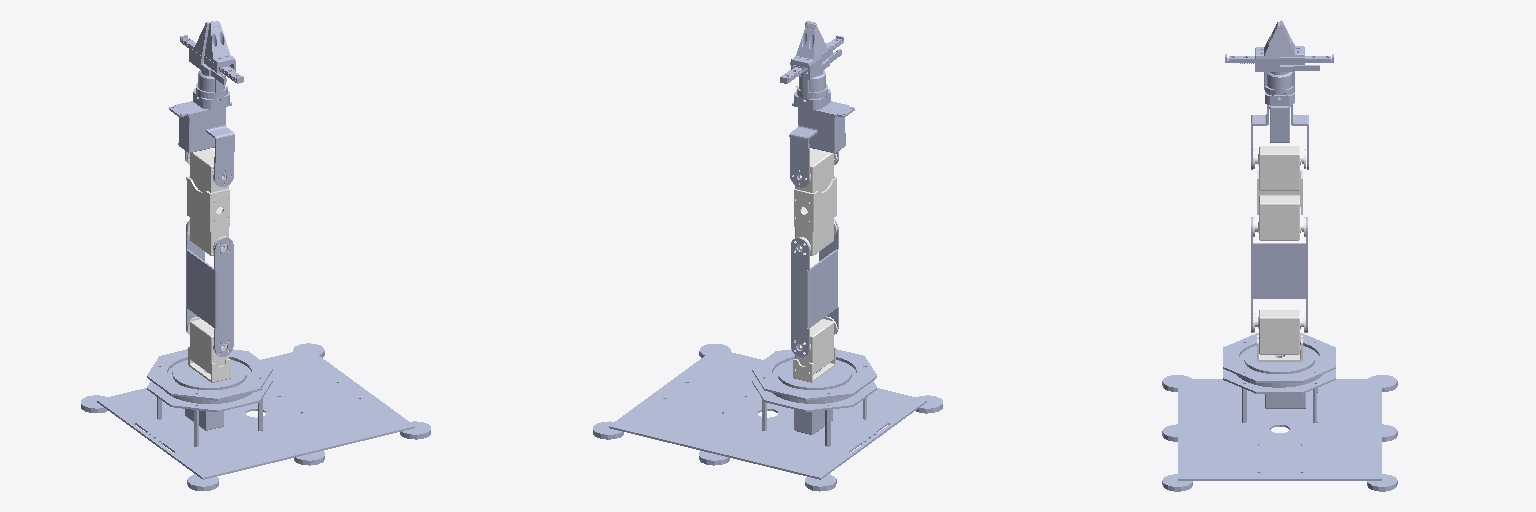
The robot description file, URDF, robot "zlarm_description":
<?xml version="1.0" ?>
<!-- This URDF was automatically created by SolidWorks to URDF Exporter! Originally created by Stephen Brawner (brawner@gmail.com) 
     Commit Version: 1.6.0-4-g7f85cfe  Build Version: 1.6.7995.38578
     For more information, please see http://wiki.ros.org/sw_urdf_exporter -->
<robot
  name="zlarm_description">

  <link
    name="base_link">
    <inertial>
      <origin
        xyz="0.0221709604094146 0.00102061948183807 0.0209906897114635"
        rpy="0 0 0" />
      <mass
        value="0.25175937001406" />
      <inertia
        ixx="0.000596688851983624"
        ixy="-5.88114431217455E-08"
        ixz="-2.45101826496541E-07"
        iyy="0.000662550232630304"
        iyz="-1.25369047340847E-07"
        izz="0.00124145605836551" />
    </inertial>
    <visual>
      <origin
        xyz="0 0 0"
        rpy="0 0 0" />
      <geometry>
        <mesh
          filename="package://zlarm_description/meshes/base_link.STL" />
      </geometry>
      <material
        name="">
        <color
          rgba="0.792156862745098 0.819607843137255 0.933333333333333 1" />
      </material>
    </visual>
    <collision>
      <origin
        xyz="0 0 0"
        rpy="0 0 0" />
      <geometry>
        <mesh
          filename="package://zlarm_description/meshes/base_link.STL" />
      </geometry>
    </collision>
  </link>
  <link
    name="link1">
    <inertial>
      <origin
        xyz="3.73431542359526E-06 1.57764626503853E-05 0.0276157877783038"
        rpy="0 0 0" />
      <mass
        value="0.0456406639502157" />
      <inertia
        ixx="1.21000561885726E-05"
        ixy="-2.10785214842448E-12"
        ixz="1.43366338603729E-09"
        iyy="7.10552788256176E-06"
        iyz="5.32187487279842E-09"
        izz="7.9921342261645E-06" />
    </inertial>
    <visual>
      <origin
        xyz="0 0 0"
        rpy="0 0 0" />
      <geometry>
        <mesh
          filename="package://zlarm_description/meshes/link1.STL" />
      </geometry>
      <material
        name="">
        <color
          rgba="1 1 1 1" />
      </material>
    </visual>
    <collision>
      <origin
        xyz="0 0 0"
        rpy="0 0 0" />
      <geometry>
        <mesh
          filename="package://zlarm_description/meshes/link1.STL" />
      </geometry>
    </collision>
  </link>
  <joint
    name="joint1"
    type="revolute">
    <origin
      xyz="-2.0792E-05 0 0.0525"
      rpy="0 0 0" />
    <parent
      link="base_link" />
    <child
      link="link1" />
    <axis
      xyz="0 0 1" />
    <limit
      lower="-1.5708"
      upper="1.5708"
      effort="0"
      velocity="0" />
  </joint>
  <link
    name="link2">
    <inertial>
      <origin
        xyz="-0.0515 -0.00367569989994914 -1.11022302462516E-16"
        rpy="0 0 0" />
      <mass
        value="0.0150013816640669" />
      <inertia
        ixx="8.38686831853106E-06"
        ixy="8.24505348156317E-21"
        ixz="9.96420251562661E-20"
        iyy="1.91552678825878E-05"
        iyz="-4.01740606605407E-20"
        izz="1.19562192175291E-05" />
    </inertial>
    <visual>
      <origin
        xyz="0 0 0"
        rpy="0 0 0" />
      <geometry>
        <mesh
          filename="package://zlarm_description/meshes/link2.STL" />
      </geometry>
      <material
        name="">
        <color
          rgba="0.792156862745098 0.819607843137255 0.933333333333333 1" />
      </material>
    </visual>
    <collision>
      <origin
        xyz="0 0 0"
        rpy="0 0 0" />
      <geometry>
        <mesh
          filename="package://zlarm_description/meshes/link2.STL" />
      </geometry>
    </collision>
  </link>
  <joint
    name="joint2"
    type="revolute">
    <origin
      xyz="0 0 0.03865"
      rpy="1.5708 1.5704 0" />
    <parent
      link="link1" />
    <child
      link="link2" />
    <axis
      xyz="0 0 -1" />
    <limit
      lower="-1.5708"
      upper="1.5708"
      effort="0"
      velocity="0" />
  </joint>
  <link
    name="link3">
    <inertial>
      <origin
        xyz="-0.0366499770037697 -0.000397974566436636 -0.000285684851574208"
        rpy="0 0 0" />
      <mass
        value="0.0914301217869069" />
      <inertia
        ixx="1.61895735535747E-05"
        ixy="7.79689527819437E-22"
        ixz="7.41994732296582E-21"
        iyy="2.48565411044368E-05"
        iyz="-9.02388346632778E-11"
        izz="1.48080036394588E-05" />
    </inertial>
    <visual>
      <origin
        xyz="0 0 0"
        rpy="0 0 0" />
      <geometry>
        <mesh
          filename="package://zlarm_description/meshes/link3.STL" />
      </geometry>
      <material
        name="">
        <color
          rgba="1 1 1 1" />
      </material>
    </visual>
    <collision>
      <origin
        xyz="0 0 0"
        rpy="0 0 0" />
      <geometry>
        <mesh
          filename="package://zlarm_description/meshes/link3.STL" />
      </geometry>
    </collision>
  </link>
  <joint
    name="joint3"
    type="revolute">
    <origin
      xyz="-0.103 0 0"
      rpy="0 0 0" />
    <parent
      link="link2" />
    <child
      link="link3" />
    <axis
      xyz="0 0 -1" />
    <limit
      lower="-1.5708"
      upper="1.5708"
      effort="0"
      velocity="0" />
  </joint>
  <link
    name="link4">
    <inertial>
      <origin
        xyz="-0.0426707479899427 -0.00709612816109308 -0.000134058484138277"
        rpy="0 0 0" />
      <mass
        value="0.0516933055416123" />
      <inertia
        ixx="1.21084331107011E-05"
        ixy="-8.30263119962514E-07"
        ixz="9.6017480874702E-10"
        iyy="1.5761311041807E-05"
        iyz="-7.89587080993816E-10"
        izz="1.7190142915555E-05" />
    </inertial>
    <visual>
      <origin
        xyz="0 0 0"
        rpy="0 0 0" />
      <geometry>
        <mesh
          filename="package://zlarm_description/meshes/link4.STL" />
      </geometry>
      <material
        name="">
        <color
          rgba="0.792156862745098 0.819607843137255 0.933333333333333 1" />
      </material>
    </visual>
    <collision>
      <origin
        xyz="0 0 0"
        rpy="0 0 0" />
      <geometry>
        <mesh
          filename="package://zlarm_description/meshes/link4.STL" />
      </geometry>
    </collision>
  </link>
  <joint
    name="joint4"
    type="revolute">
    <origin
      xyz="-0.0732999540075392 0 0"
      rpy="0 0 0" />
    <parent
      link="link3" />
    <child
      link="link4" />
    <axis
      xyz="0 0 -1" />
    <limit
      lower="-1.5708"
      upper="1.5708"
      effort="0"
      velocity="0" />
  </joint>
  <link
    name="link5">
    <inertial>
      <origin
        xyz="1.20314494200802E-08 1.49244971936469E-08 -0.000575227732471761"
        rpy="0 0 0" />
      <mass
        value="0.000646644487863901" />
      <inertia
        ixx="1.55888144531973E-08"
        ixy="7.76125316985978E-18"
        ixz="-2.99138207885228E-13"
        iyy="1.5588814456568E-08"
        iyz="-3.71068181914057E-13"
        izz="2.98907164206809E-08" />
    </inertial>
    <visual>
      <origin
        xyz="0 0 0"
        rpy="0 0 0" />
      <geometry>
        <mesh
          filename="package://zlarm_description/meshes/link5.STL" />
      </geometry>
      <material
        name="">
        <color
          rgba="1 1 1 1" />
      </material>
    </visual>
    <collision>
      <origin
        xyz="0 0 0"
        rpy="0 0 0" />
      <geometry>
        <mesh
          filename="package://zlarm_description/meshes/link5.STL" />
      </geometry>
    </collision>
  </link>
  <joint
    name="joint5"
    type="revolute">
    <origin
      xyz="-0.0682243933179387 0.0023018729714997 -0.000134875345940033"
      rpy="-1.57082231078953 0.00184650979107542 1.5567252968918" />
    <parent
      link="link4" />
    <child
      link="link5" />
    <axis
      xyz="0 0 1" />
    <limit
      lower="-1.5708"
      upper="1.5708"
      effort="0"
      velocity="0" />
  </joint>
  <link
    name="gripper_base_link">
    <inertial>
      <origin
        xyz="-0.0616934486513835 0.000985771191585209 1.54427206379149E-05"
        rpy="0 0 0" />
      <mass
        value="0.0218218515622906" />
      <inertia
        ixx="4.89294487346846E-06"
        ixy="2.04476389850048E-08"
        ixz="5.31851726888672E-09"
        iyy="5.05197711598414E-06"
        iyz="3.26752375952789E-10"
        izz="2.18440311673384E-06" />
    </inertial>
    <visual>
      <origin
        xyz="0 0 0"
        rpy="0 0 0" />
      <geometry>
        <mesh
          filename="package://zlarm_description/meshes/gripper_base_link.STL" />
      </geometry>
      <material
        name="">
        <color
          rgba="0.792156862745098 0.819607843137255 0.933333333333333 1" />
      </material>
    </visual>
    <collision>
      <origin
        xyz="0 0 0"
        rpy="0 0 0" />
      <geometry>
        <mesh
          filename="package://zlarm_description/meshes/gripper_base_link.STL" />
      </geometry>
    </collision>
  </link>
  <joint
    name="gripper_base_joint"
    type="fixed">
    <origin
      xyz="0 0 0.080242"
      rpy="-1.5726 -1.5567 3.1416" />
    <parent
      link="link5" />
    <child
      link="gripper_base_link" />
    <axis
      xyz="0 0 0" />
  </joint>
  <link
    name="figger_link1">
    <inertial>
      <origin
        xyz="-0.0296361699785966 0.00261215342632353 -0.00725948435649681"
        rpy="0 0 0" />
      <mass
        value="0.00821304889372135" />
      <inertia
        ixx="7.07712297673231E-07"
        ixy="3.26464854837125E-08"
        ixz="-9.87706425447697E-08"
        iyy="8.22613743330352E-07"
        iyz="-2.18760529626971E-08"
        izz="6.2075307057772E-07" />
    </inertial>
    <visual>
      <origin
        xyz="0 0 0"
        rpy="0 0 0" />
      <geometry>
        <mesh
          filename="package://zlarm_description/meshes/figger_link1.STL" />
      </geometry>
      <material
        name="">
        <color
          rgba="0.792156862745098 0.819607843137255 0.933333333333333 1" />
      </material>
    </visual>
    <collision>
      <origin
        xyz="0 0 0"
        rpy="0 0 0" />
      <geometry>
        <mesh
          filename="package://zlarm_description/meshes/figger_link1.STL" />
      </geometry>
    </collision>
  </link>
  <joint
    name="figger_joint1"
    type="prismatic">
    <origin
      xyz="0 0 0.080242"
      rpy="-1.5726 -1.5567 3.1416" />
    <parent
      link="link5" />
    <child
      link="figger_link1" />
    <axis
      xyz="0 0 -1" />
    <limit
      lower="0"
      upper="0.025"
      effort="0"
      velocity="0" />
  </joint>
  <link
    name="figger_link2">
    <inertial>
      <origin
        xyz="-0.0297038620665552 -0.00218789089870593 0.00700953553927919"
        rpy="0 0 0" />
      <mass
        value="0.008213049128757" />
      <inertia
        ixx="7.05969187102707E-07"
        ixy="-2.93680676575521E-08"
        ixz="9.81158437182552E-08"
        iyy="8.2435683330745E-07"
        iyz="-2.4724672630761E-08"
        izz="6.20753063153987E-07" />
    </inertial>
    <visual>
      <origin
        xyz="0 0 0"
        rpy="0 0 0" />
      <geometry>
        <mesh
          filename="package://zlarm_description/meshes/figger_link2.STL" />
      </geometry>
      <material
        name="">
        <color
          rgba="0.792156862745098 0.819607843137255 0.933333333333333 1" />
      </material>
    </visual>
    <collision>
      <origin
        xyz="0 0 0"
        rpy="0 0 0" />
      <geometry>
        <mesh
          filename="package://zlarm_description/meshes/figger_link2.STL" />
      </geometry>
    </collision>
  </link>
  <joint
    name="figger_joint2"
    type="prismatic">
    <origin
      xyz="0 0 0.080242"
      rpy="-1.5726 -1.5567 3.1416" />
    <parent
      link="link5" />
    <child
      link="figger_link2" />
    <axis
      xyz="0 0 -1" />
    <limit
      lower="-0.025"
      upper="0"
      effort="0"
      velocity="0" />
    <mimic
      joint="figger_joint1"
      multiplier="-1"
      offset="0" />
  </joint>
</robot>

--- What the picture shows (computed from the rendered views, not written in the file) ---
The picture shows the robot from 3 angles, left to right: view 1: azimuth 30°, elevation 25°; view 2: azimuth 150°, elevation 25°; view 3: azimuth 270°, elevation 25°; orthographic projection.
Robot: zlarm_description — 9 links, 8 joints (5 revolute, 2 prismatic, 1 fixed); root link base_link; default pose: every joint at zero.
Links seen in each view (by area): view 1: base_link, link2, link3, link4, link1, gripper_base_link, figger_link2, figger_link1; view 2: base_link, link2, link3, link4, link1, gripper_base_link, figger_link1; view 3: base_link, link3, link2, link1, gripper_base_link, link4, figger_link2, figger_link1.
Link boxes in pixels (x1,y1,x2,y2): base_link: (81, 343, 430, 490); link2: (186, 220, 233, 356); link3: (186, 149, 230, 255); link4: (169, 101, 234, 186); link1: (187, 317, 230, 382); gripper_base_link: (180, 35, 243, 109); figger_link2: (204, 21, 235, 72); figger_link1: (189, 21, 226, 84); base_link: (593, 344, 942, 491); link2: (791, 219, 838, 356); link3: (793, 149, 837, 255); link4: (789, 101, 854, 187); link1: (793, 316, 837, 382); gripper_base_link: (780, 35, 843, 109); figger_link1: (790, 22, 841, 79); base_link: (1162, 333, 1397, 491); link3: (1253, 146, 1305, 240); link2: (1251, 217, 1307, 332); link1: (1253, 310, 1305, 361); gripper_base_link: (1225, 54, 1333, 105); link4: (1251, 105, 1308, 169); figger_link2: (1255, 22, 1319, 71); figger_link1: (1240, 20, 1304, 64).
Bounding box of the posed robot: 0.2592 × 0.23 × 0.423 m (x, y, z).
Meshes: 9 distinct files referenced, 9 mesh visuals loaded (9 binary STL).
